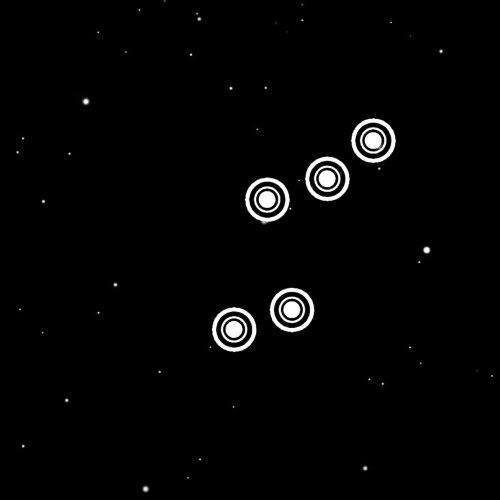lyra: (205, 103, 400, 369)
